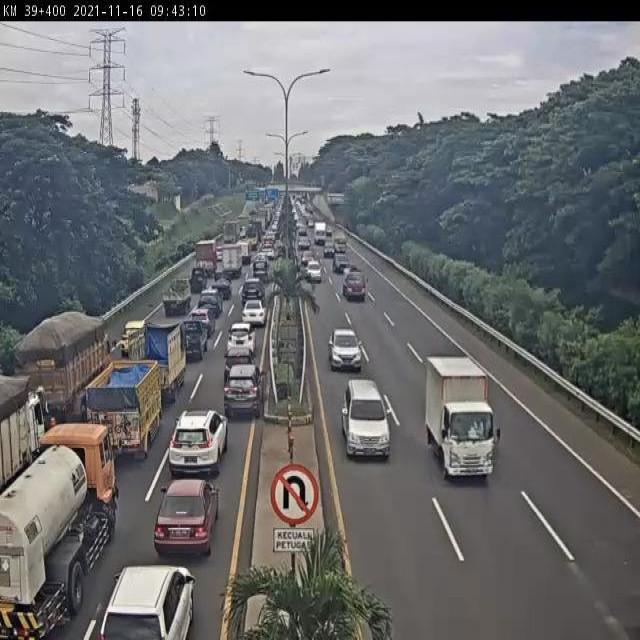car: (98, 565, 194, 640), (156, 478, 220, 558), (167, 410, 229, 478), (340, 380, 391, 457), (225, 365, 266, 420), (327, 329, 361, 371), (226, 321, 257, 363), (182, 319, 208, 361), (224, 347, 254, 382), (120, 320, 148, 355), (240, 298, 266, 330), (196, 288, 223, 317), (240, 278, 264, 306), (190, 308, 214, 336), (212, 271, 233, 300), (189, 267, 208, 292)
truck-m-: (0, 421, 117, 640), (13, 315, 111, 424), (0, 378, 45, 498)
truck-s-: (424, 352, 493, 481), (88, 359, 163, 461), (128, 320, 187, 400), (162, 279, 192, 312), (343, 267, 366, 300)
